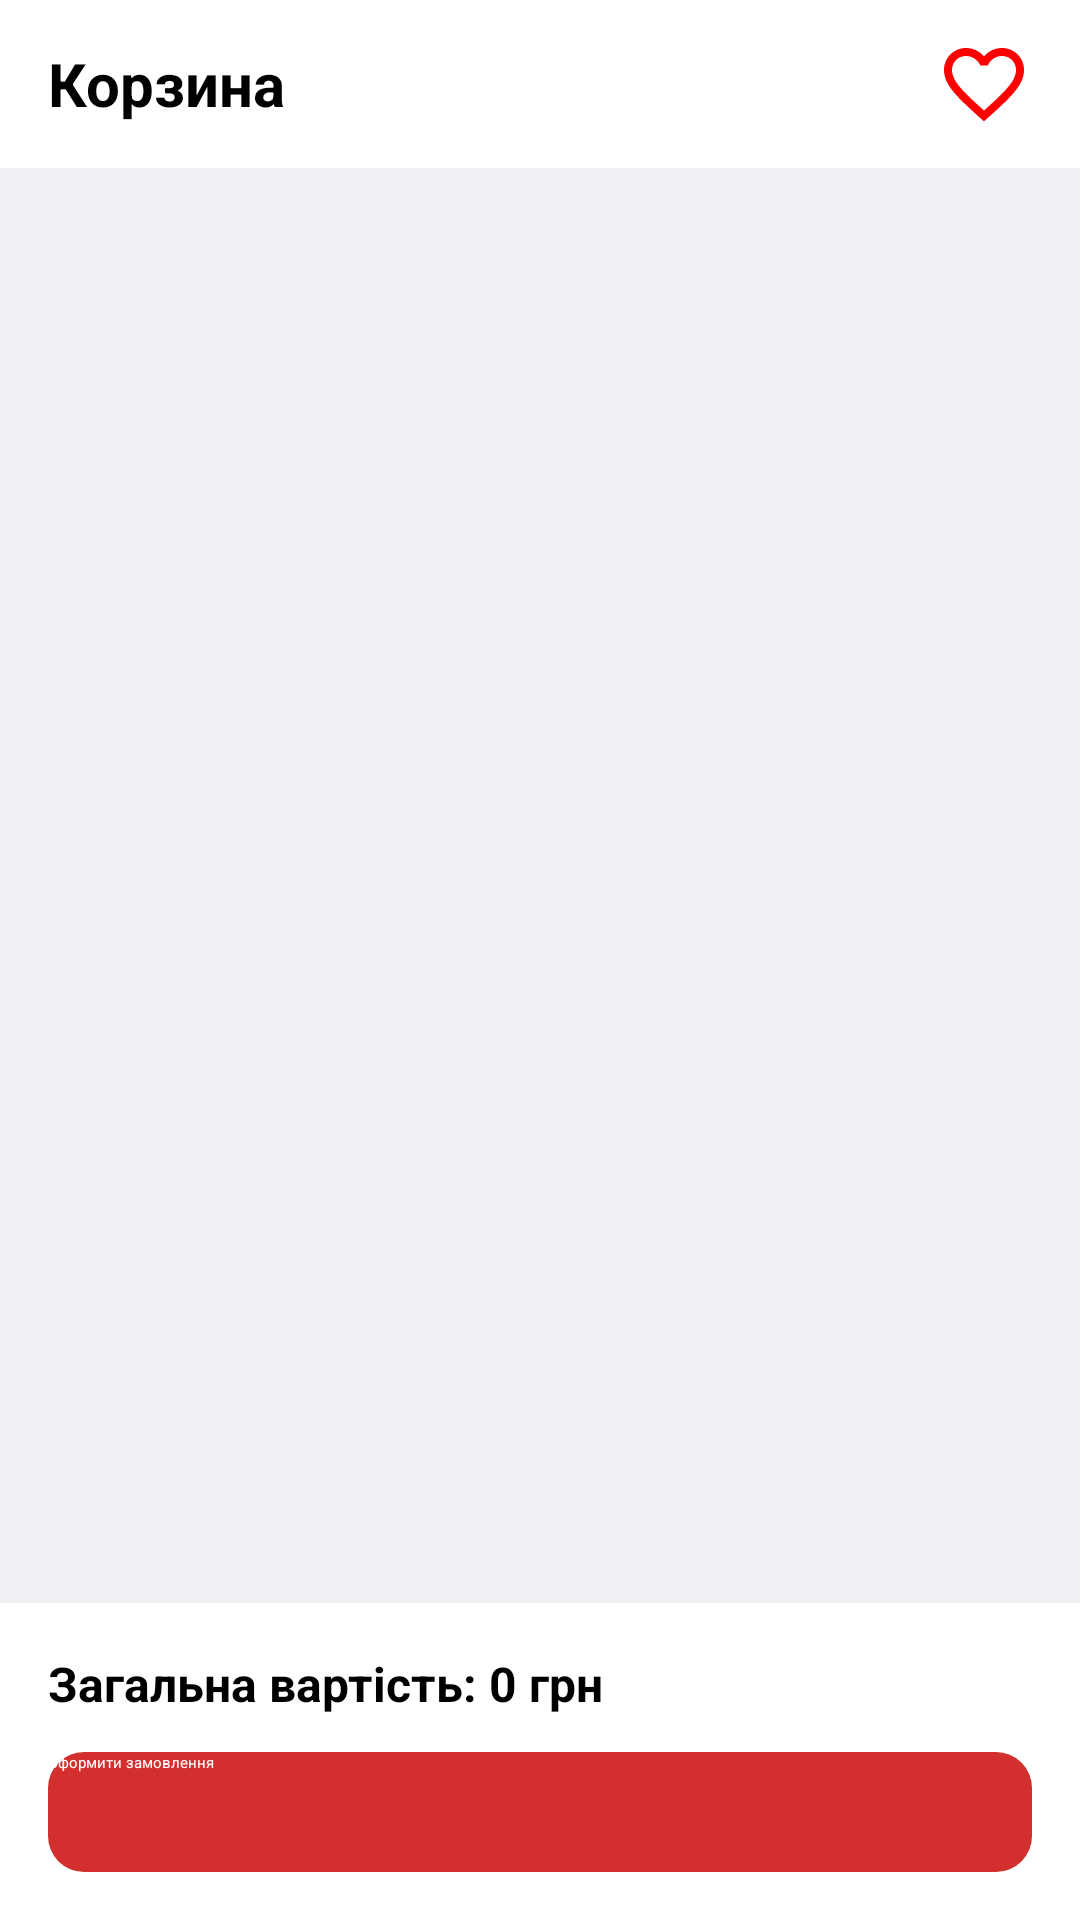

Point at icon controls on the screen. Image size 1080w x 1920h, points as [x,y].
heart: [984,84]
